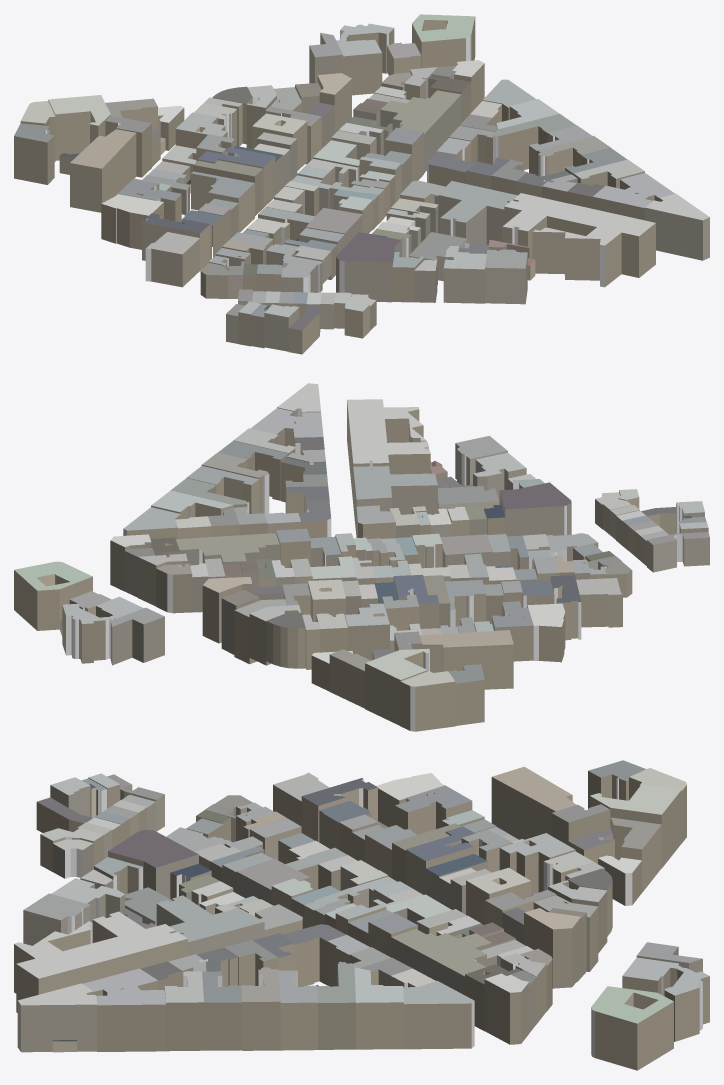
3 renders of one model, top to bottom at view 1: azimuth 30°, elevation 25°; view 2: azimuth 150°, elevation 25°; view 3: azimuth 270°, elevation 25°, orthographic. The views are drawn at different scales.
Parts seen in each view (by area): view 1: tuile; view 2: tuile; view 3: tuile.
Boxes of the visible parts, x1=… form: tuile: x1=14, y1=14, x2=709, y2=354; tuile: x1=14, y1=383, x2=709, y2=731; tuile: x1=14, y1=760, x2=709, y2=1070.
Bounding box in the file's own units: 259 × 30.31 × 283.
